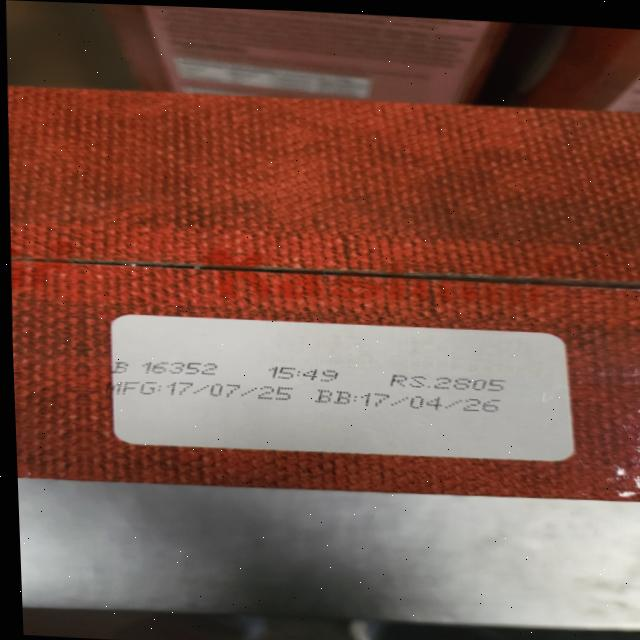BB: (319, 388, 506, 415)
Batch: (111, 358, 220, 377)
MFG: (113, 377, 299, 404)
RS: (386, 372, 507, 393)
TimeStamp: (268, 365, 341, 382)
